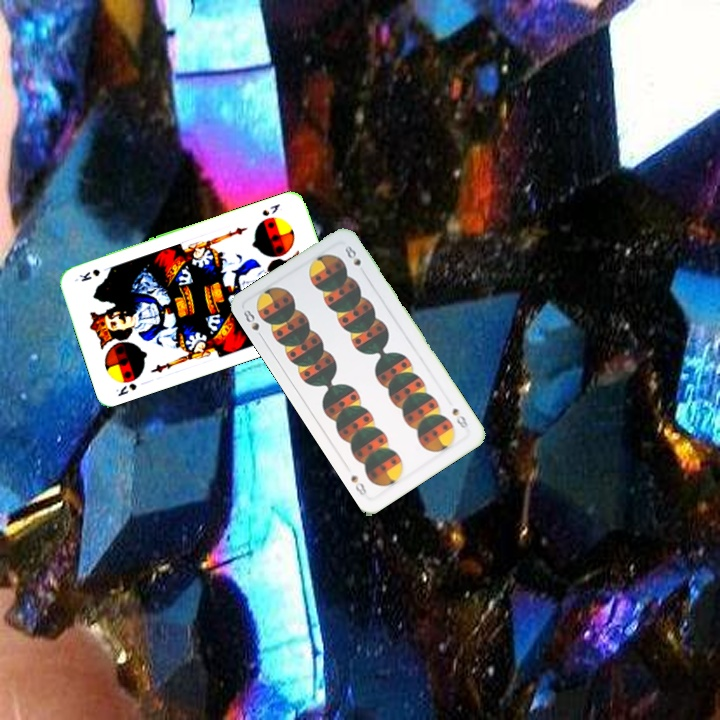S8: (239, 305, 266, 342), (448, 404, 471, 431)
SK: (112, 379, 139, 399), (258, 200, 283, 219)
